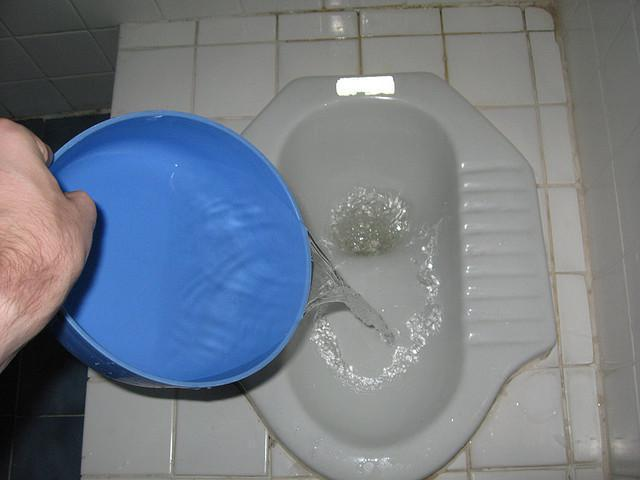Sanitario: (225, 84, 555, 475)
